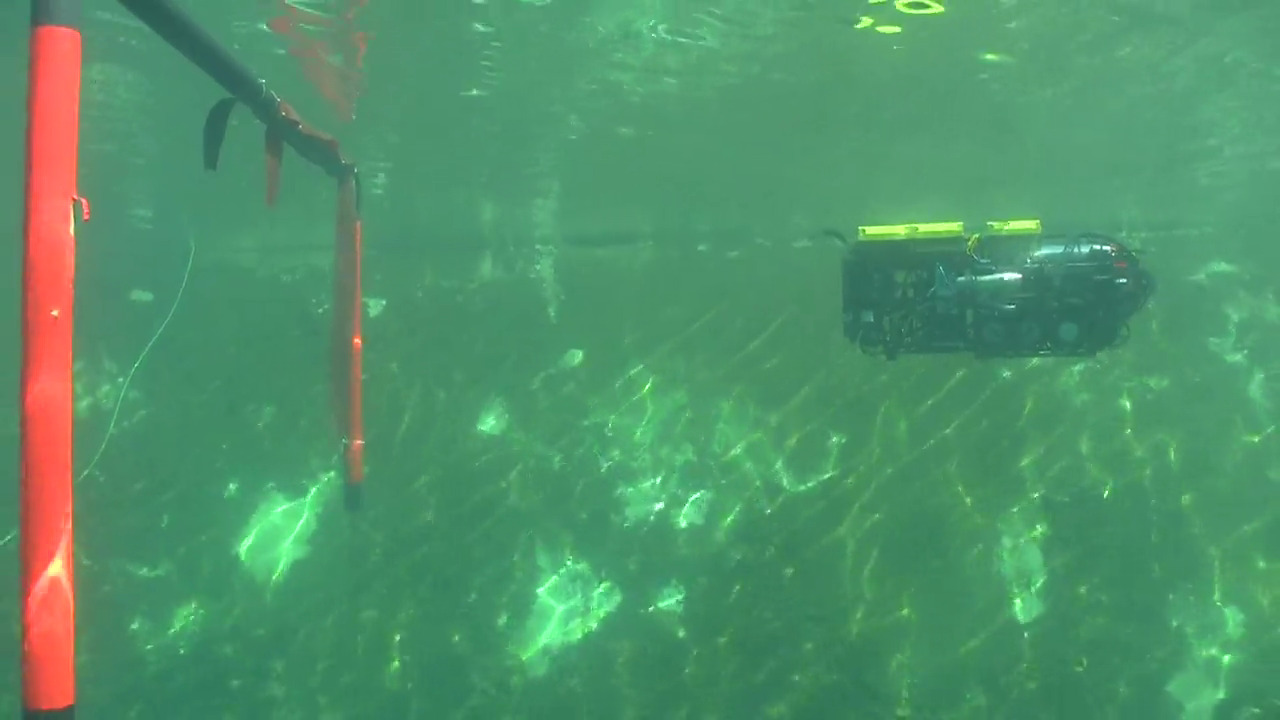gate: (15, 5, 367, 720)
